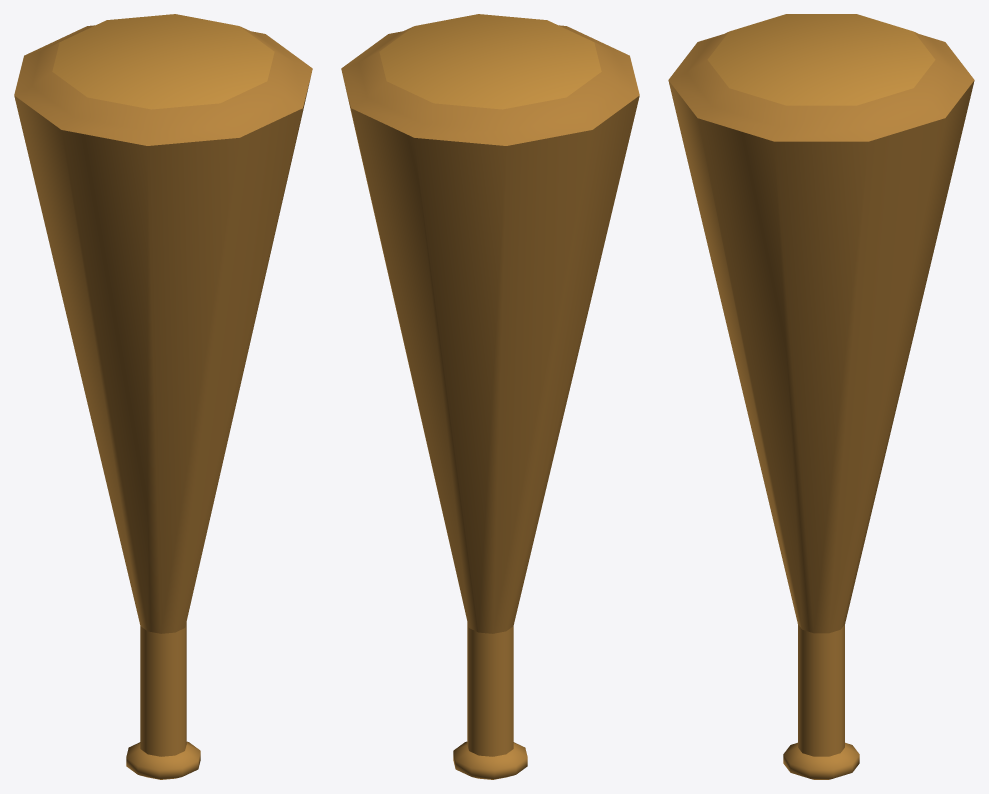
Rendered from Gourdin.fbx.
The picture shows the model from 3 angles, left to right: view 1: azimuth 30°, elevation 25°; view 2: azimuth 150°, elevation 25°; view 3: azimuth 270°, elevation 25°; orthographic projection.
Parts seen in each view (by area): view 1: Gourdin; view 2: Gourdin; view 3: Gourdin.
Part boxes in pixels (x1,y1,x2,y2): Gourdin: (14, 14, 312, 779); Gourdin: (341, 14, 639, 779); Gourdin: (668, 14, 974, 779).
Bounding box in the file's own units: 19.82 × 53.54 × 20.84.
